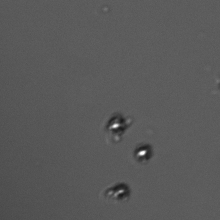Dead Cell: (103, 178, 131, 205)
Living Cell: (102, 110, 135, 145), (127, 138, 155, 165)
